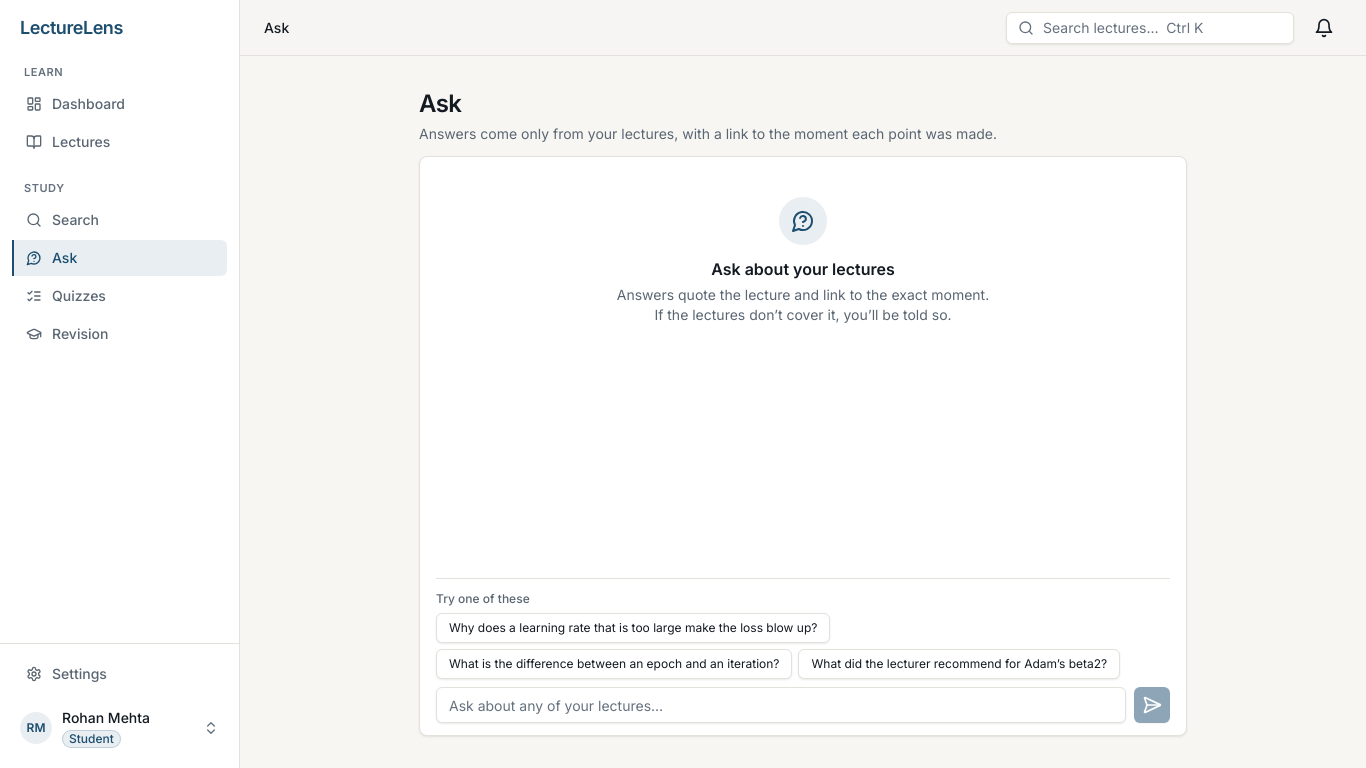
Ask — grounded answers and abstention › an abstained answer is a calm info panel (not an error), with the reason in plain English
Type "What did the lecturer recommend for Adam’s beta2?" into the field named "Your question" at (781, 705), box x1=436 y1=687 x2=1126 y2=723
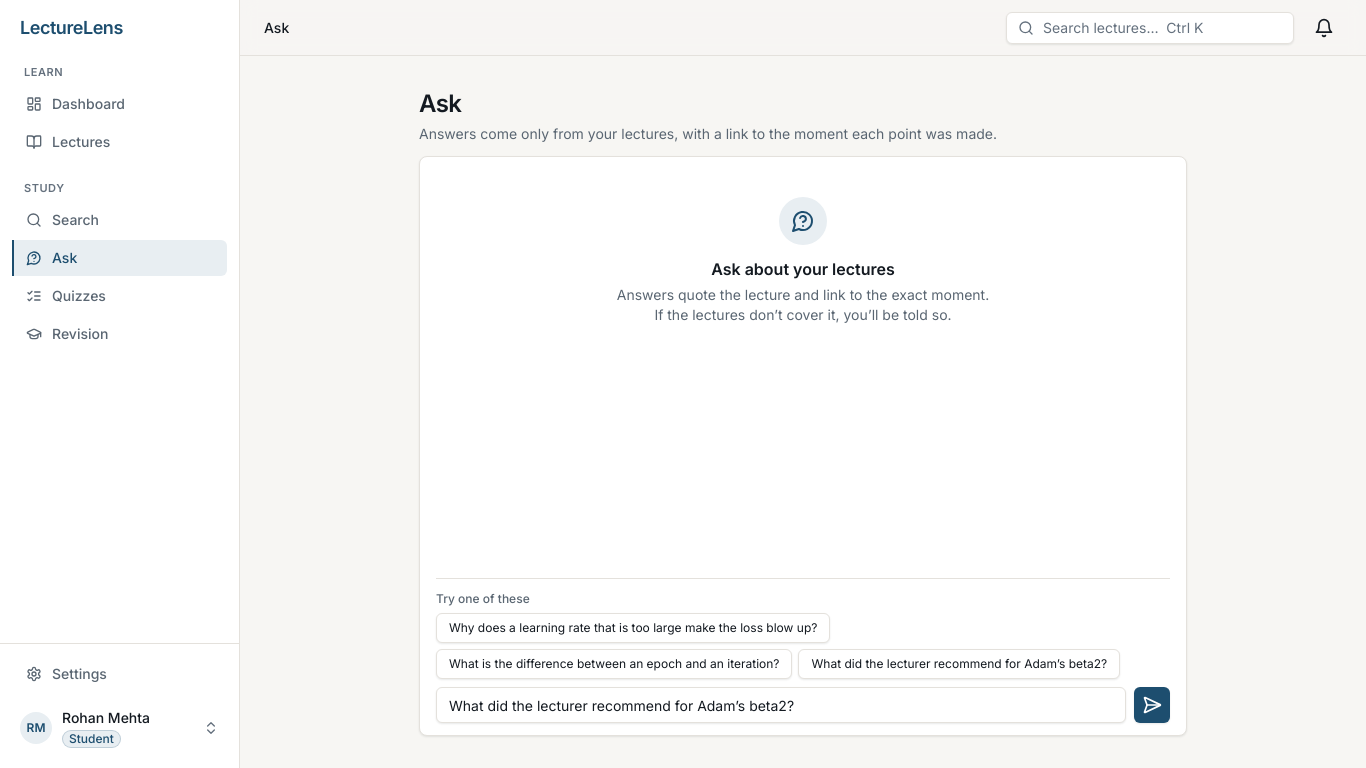
Submit the form named "Your question", box x1=436 y1=578 x2=1170 y2=735
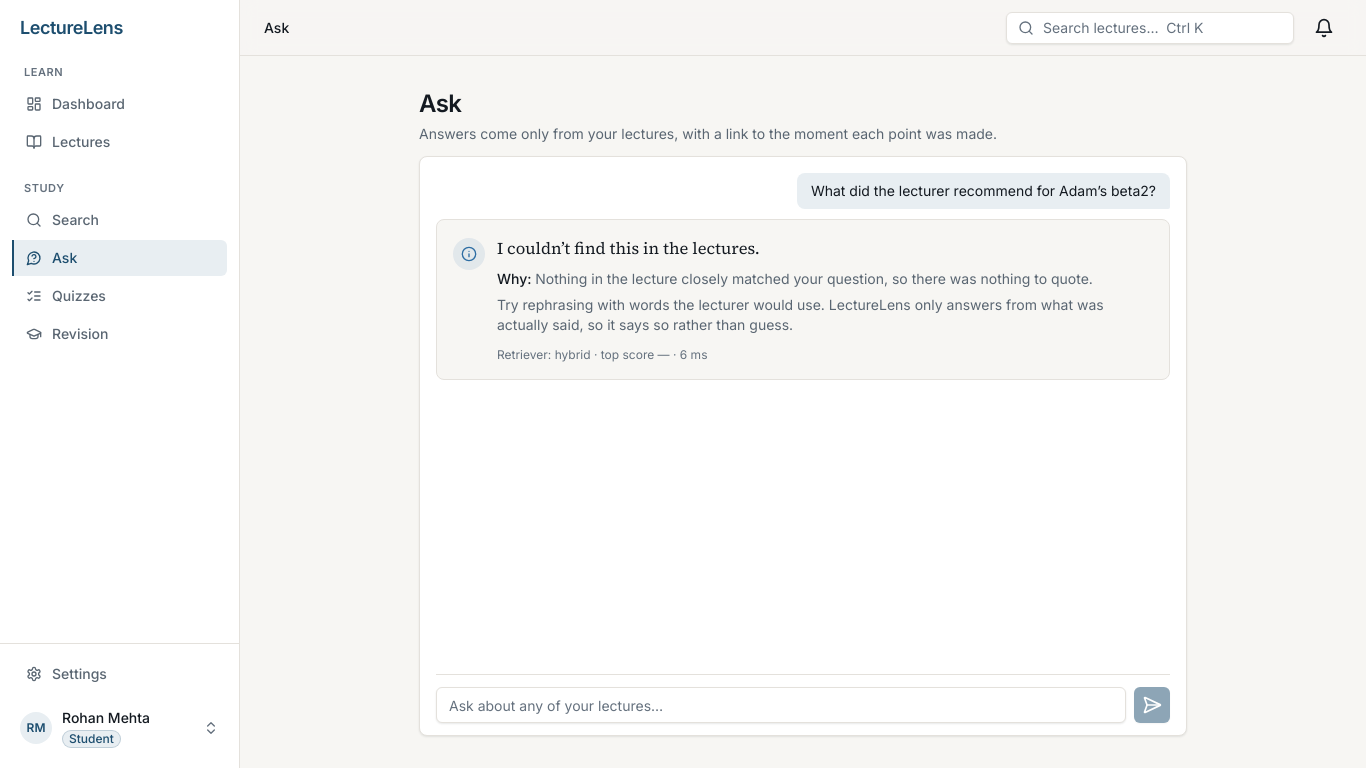
Check: the element with test id "abstained-panel" shows "I couldn’t find this in the lectures.", box x1=436 y1=219 x2=1170 y2=380
Check: the element with test id "abstained-panel" shows "Nothing in the lecture closely matched your question", box x1=535 y1=270 x2=1093 y2=287
Check: the element with test id "abstained-panel" shows "Try rephrasing", box x1=497 y1=296 x2=821 y2=313
